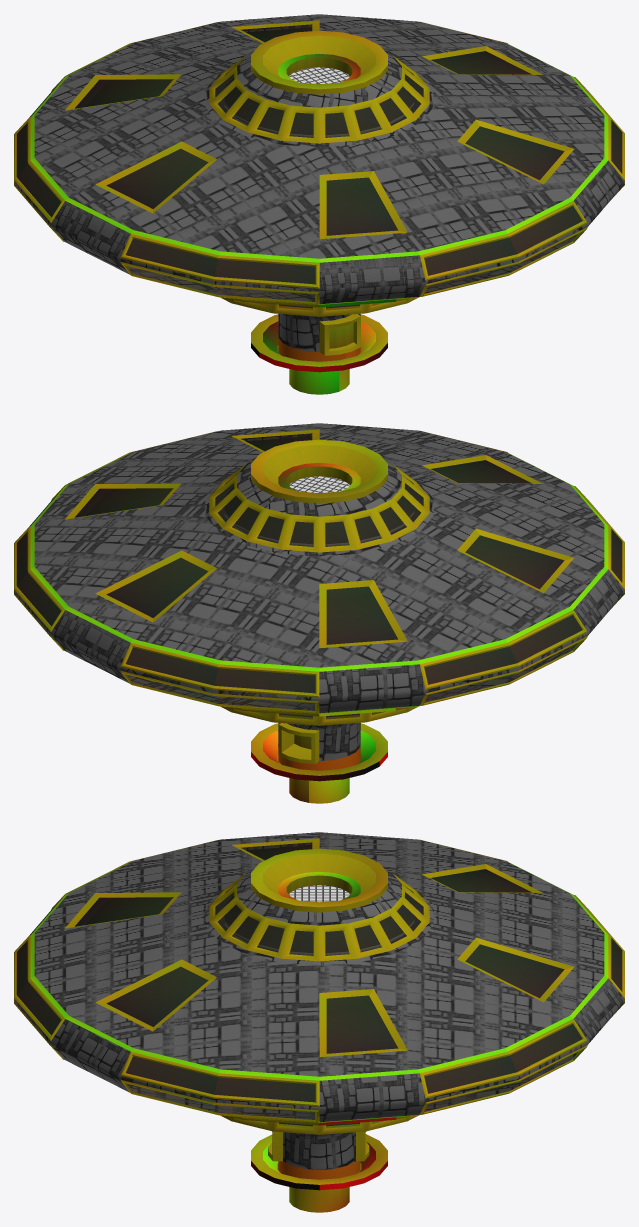
Rendered from Scifi-structure-Dish-V2.FBX.
The picture shows the model from 3 angles, top to bottom: view 1: azimuth 30°, elevation 25°; view 2: azimuth 150°, elevation 25°; view 3: azimuth 270°, elevation 25°; orthographic projection.
Parts seen in each view (by area): view 1: Scifi-structure-Dish-V2, Inside-scifi-structure-Dish-Var-2; view 2: Scifi-structure-Dish-V2, Inside-scifi-structure-Dish-Var-2; view 3: Scifi-structure-Dish-V2, Inside-scifi-structure-Dish-Var-2.
Boxes of the visible parts, x1,y1,x2,y2 form: Scifi-structure-Dish-V2: [14, 14, 624, 394]; Inside-scifi-structure-Dish-Var-2: [16, 27, 622, 308]; Scifi-structure-Dish-V2: [14, 423, 624, 803]; Inside-scifi-structure-Dish-Var-2: [16, 436, 622, 717]; Scifi-structure-Dish-V2: [14, 832, 624, 1212]; Inside-scifi-structure-Dish-Var-2: [16, 845, 622, 1126].
Size of the model in its own units: 73.96 by 72.89 by 42.36.
